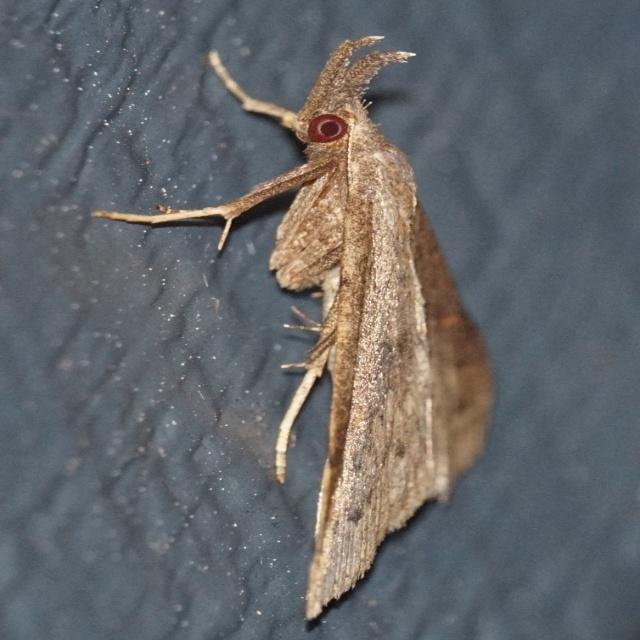Moths and butterflies: (90, 32, 506, 621)
